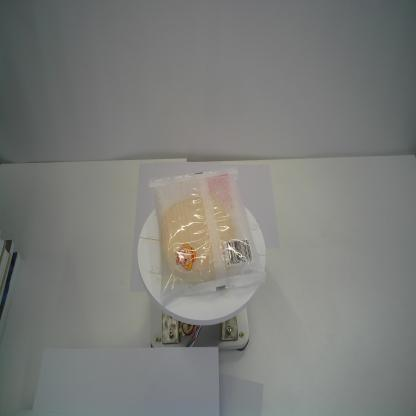Dessert: (146, 164, 267, 309)
